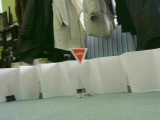stop: (69, 46, 90, 67)
